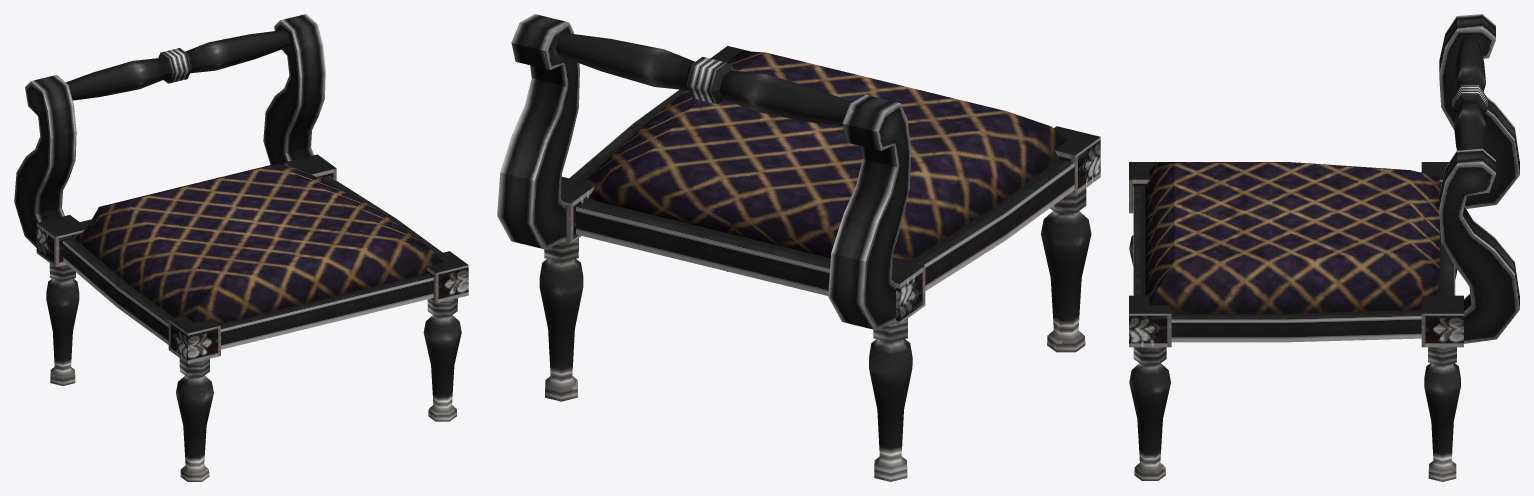
The model's file is furni_0201205.FBX.
The picture shows the model from 3 angles, left to right: view 1: azimuth 30°, elevation 25°; view 2: azimuth 150°, elevation 25°; view 3: azimuth 270°, elevation 25°; orthographic projection. The views are drawn at different scales.
Parts seen in each view (by area): view 1: furni_0201205; view 2: furni_0201205; view 3: furni_0201205.
Part boxes in pixels (left/top/right/bottom): furni_0201205: left=14, top=14, right=468, bottom=481; furni_0201205: left=497, top=14, right=1100, bottom=481; furni_0201205: left=1129, top=14, right=1519, bottom=481.
Bounding box in the file's own units: 74.26 × 73.02 × 80.81.
Materials: 2 (2 with a texture image).
